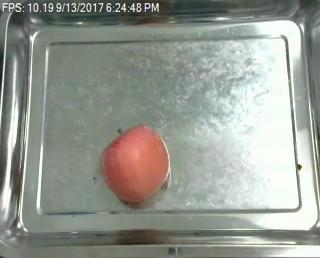apple: (99, 124, 170, 205)
